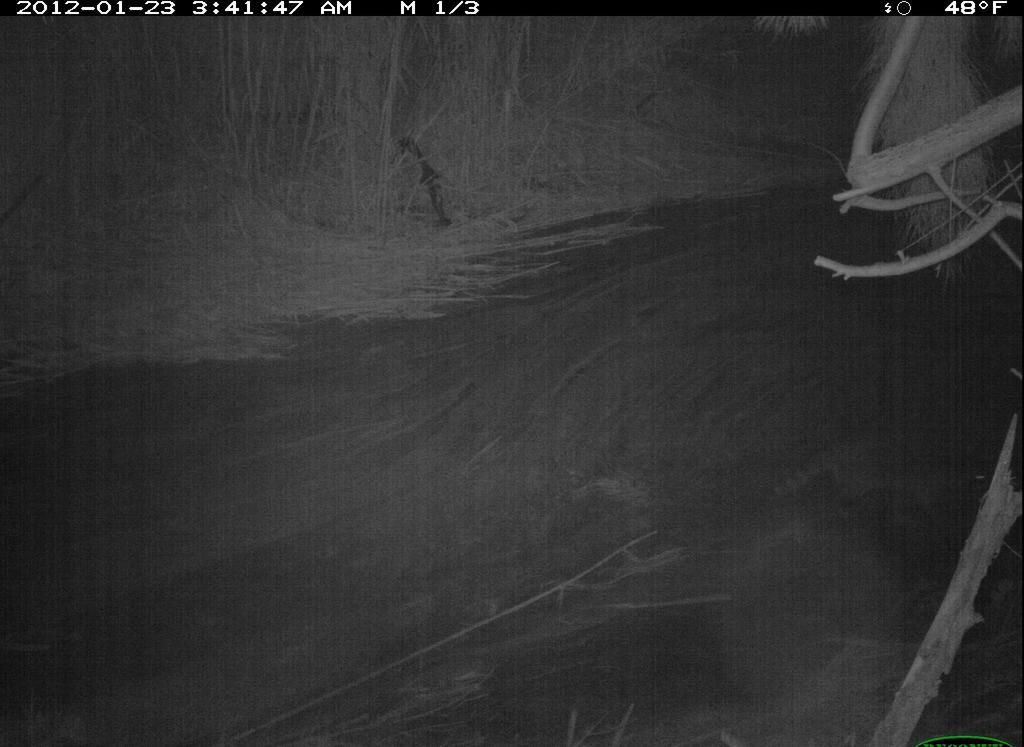raccoon: (763, 402, 1010, 538)
